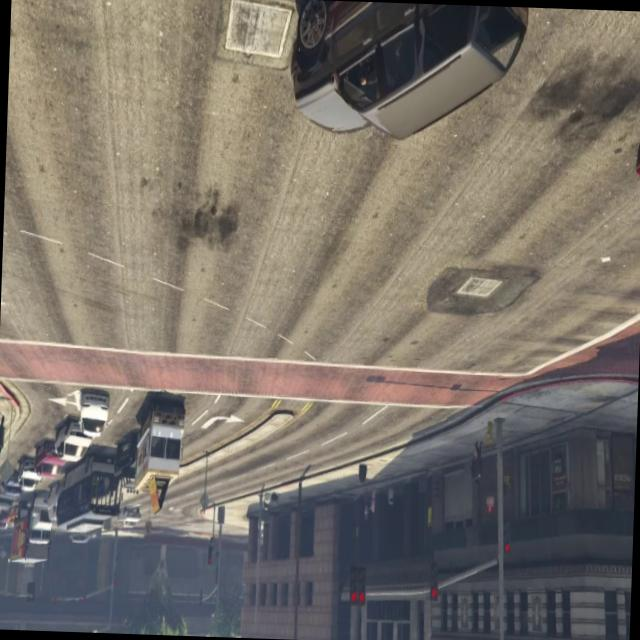Red-Signal: (344, 555, 374, 613), (499, 512, 516, 560), (427, 556, 442, 608)
